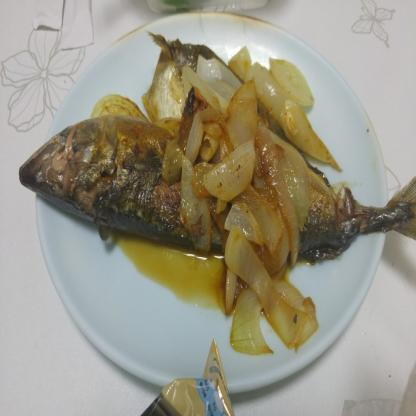Peixe: (23, 116, 416, 257)
